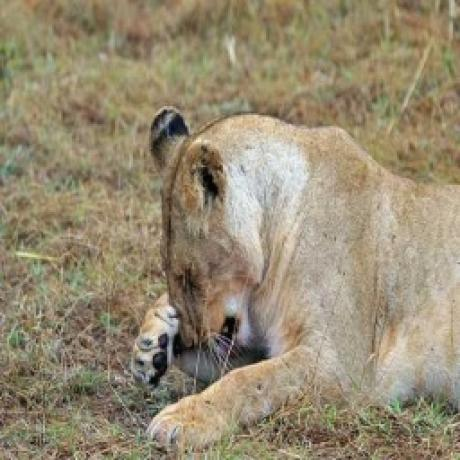Lion: (130, 103, 460, 453)
